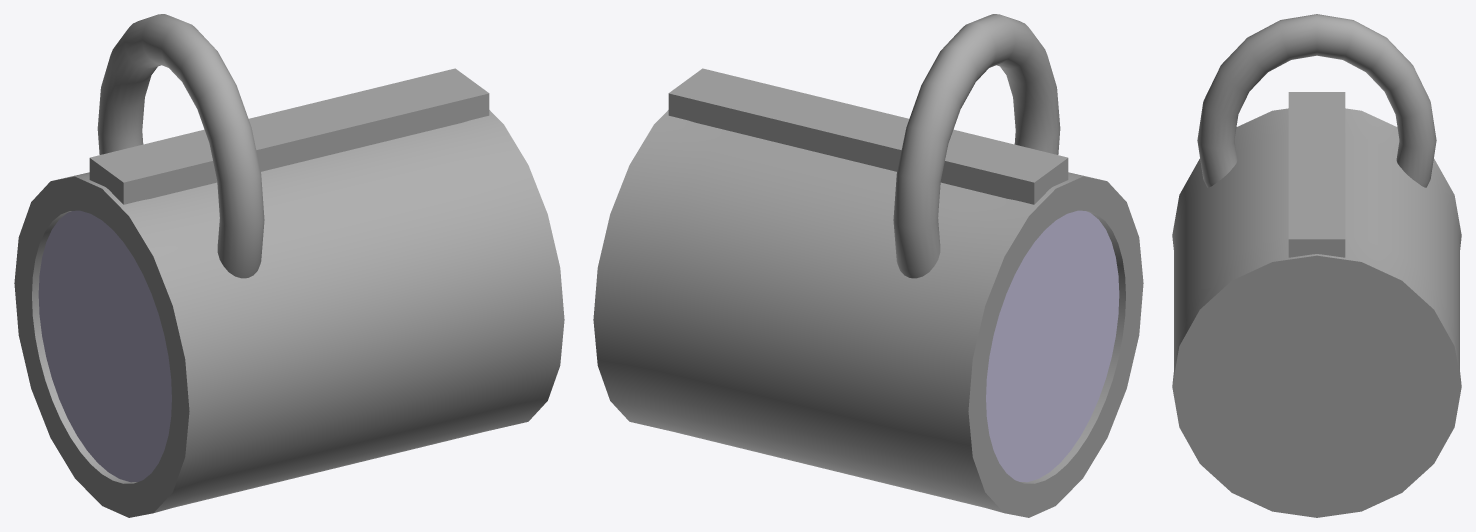
The model's file is Light 2.fbx.
3 renders of one model, left to right at view 1: azimuth 30°, elevation 25°; view 2: azimuth 150°, elevation 25°; view 3: azimuth 270°, elevation 25°, orthographic. The views are drawn at different scales.
Parts seen in each view (by area): view 1: Light1; view 2: Light1; view 3: Light1.
Part boxes in pixels (x1,y1,x2,y2): Light1: (14,14,564,517); Light1: (593,14,1143,517); Light1: (1172,14,1461,517).
Bounding box in the file's own units: 3.41 × 4.03 × 2.76.
